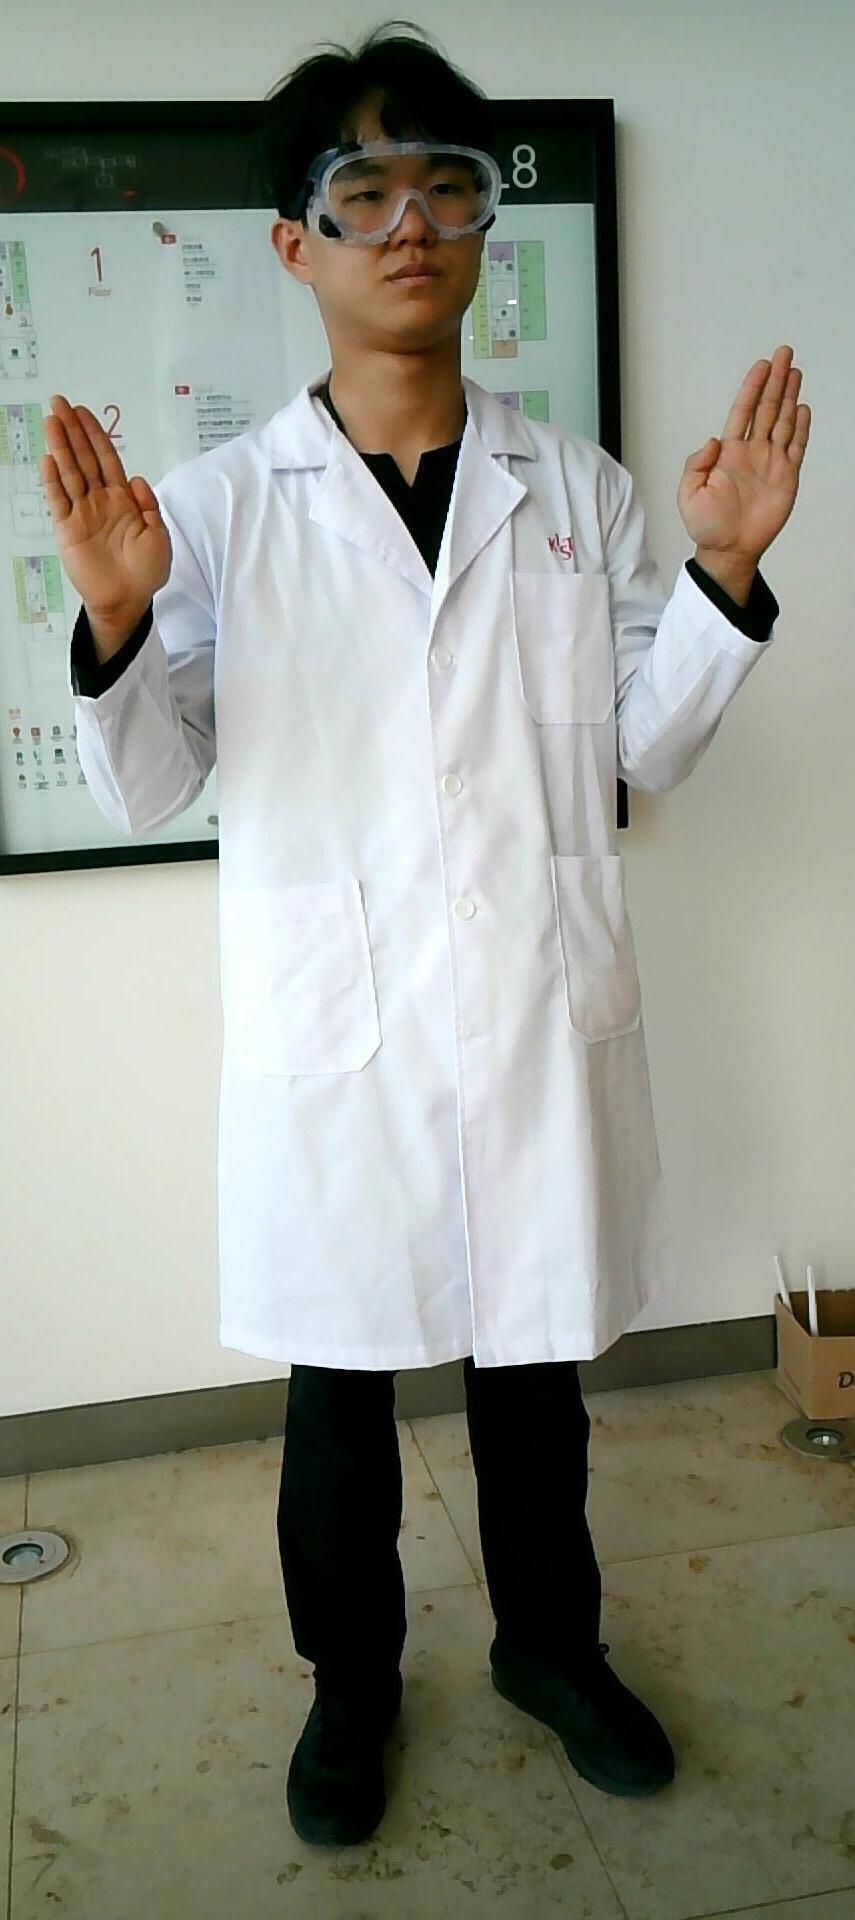lab_coat: (191, 454, 644, 1347)
